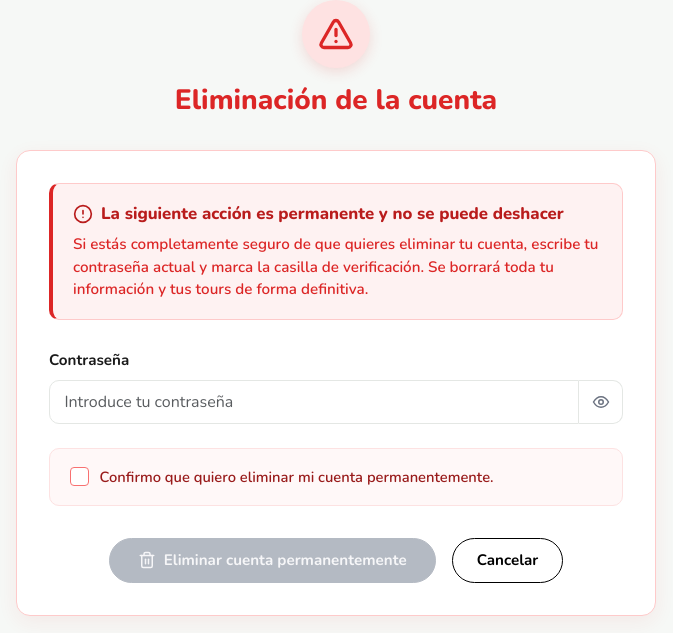
Test: Checks submit button is disabled in appropiate moments
This screenshot has width=673, height=633.
Expected: the button "Eliminar cuenta permanentemente" is disabled, top-left (109, 538), bottom-right (436, 583)
# Button disabled with only password
Type "password" into the password field labelled "Contraseña".
click(314, 402); type("password")  # box top-left (49, 380), bottom-right (579, 424)
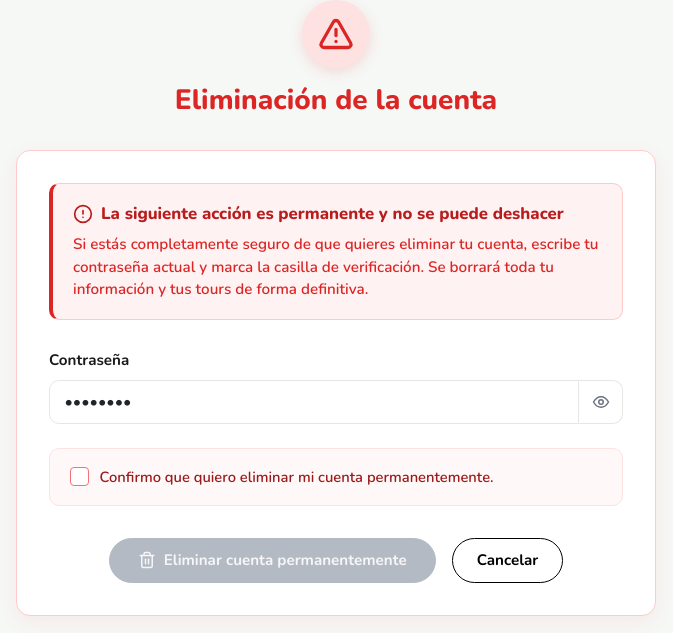
Expected: the button "Eliminar cuenta permanentemente" is disabled, top-left (109, 538), bottom-right (436, 583)
# Button disabled with only checkbox
Clear the password field labelled "Contraseña" at point(314, 402), box top-left (49, 380), bottom-right (579, 424)
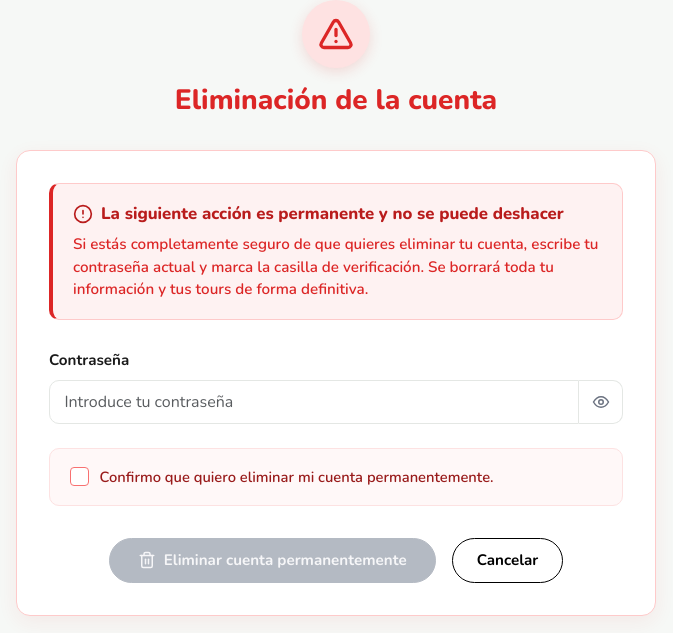
Click the checkbox.
click(80, 476)  # box top-left (70, 467), bottom-right (89, 486)
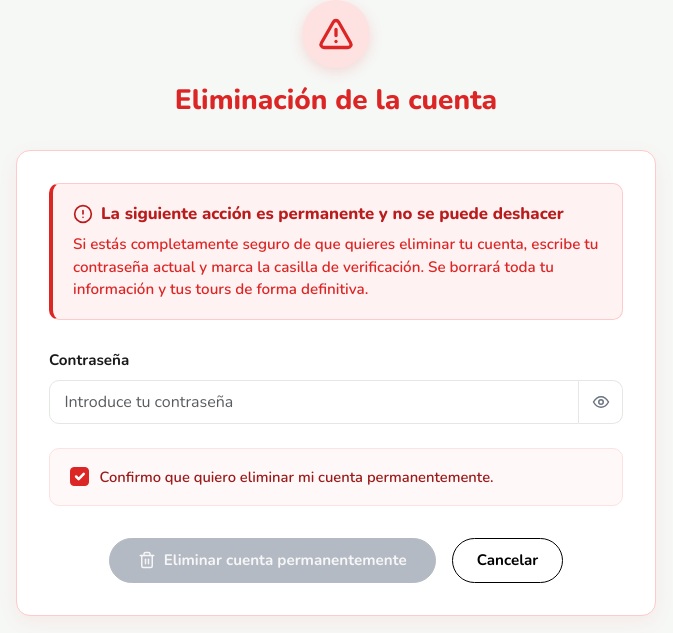
Expected: the button "Eliminar cuenta permanentemente" is disabled, top-left (109, 538), bottom-right (436, 583)
# Button is enabled with correct data
Type "password" into the password field labelled "Contraseña".
click(314, 402); type("password")  # box top-left (49, 380), bottom-right (579, 424)
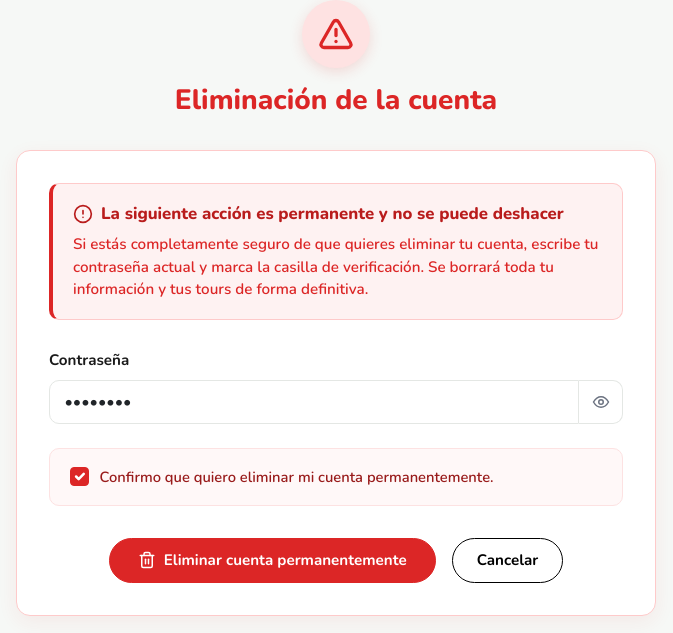
Now the button "Eliminar cuenta permanentemente" is enabled, box top-left (109, 538), bottom-right (436, 583)
